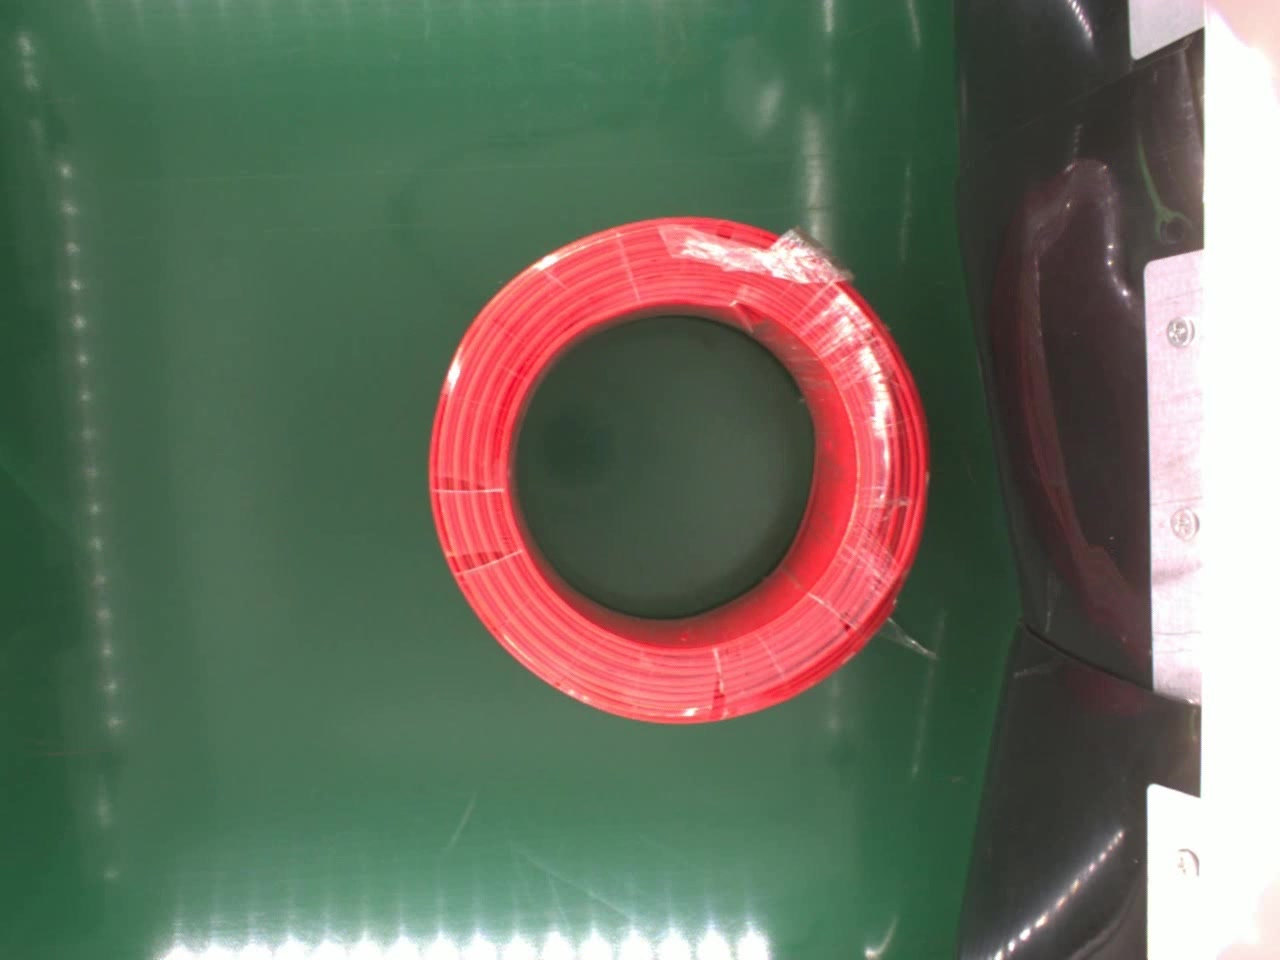red: (420, 210, 934, 734)
